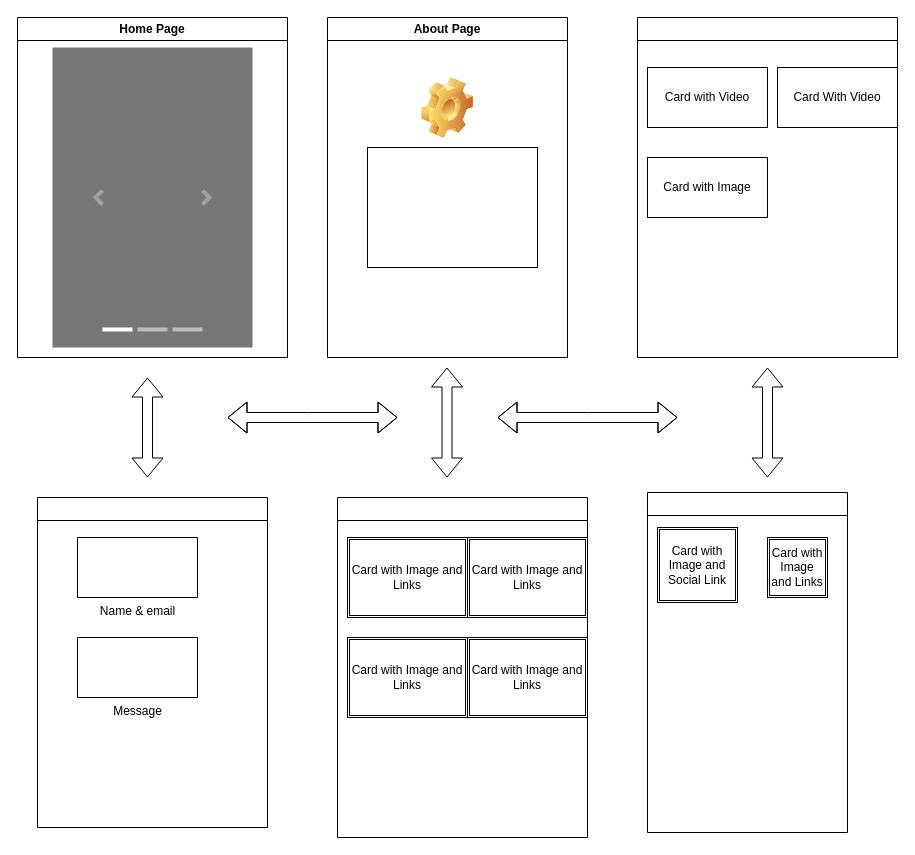
Image size: 915x855. Some labels were removed from this diagram. The box of each missing label's shape, as (x1, y1, x2, y2) in pixels:
About page with text: (366, 146, 538, 268)
Contact Form: (36, 496, 268, 828)
Gear Page: (336, 496, 588, 838)
Images Carousel: (52, 47, 252, 347)
Recent Projects: (636, 16, 898, 358)
Socials Page: (646, 492, 848, 832)
